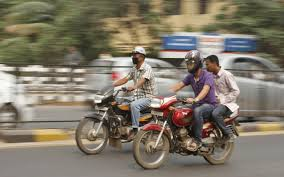helmet: (184, 47, 205, 74)
